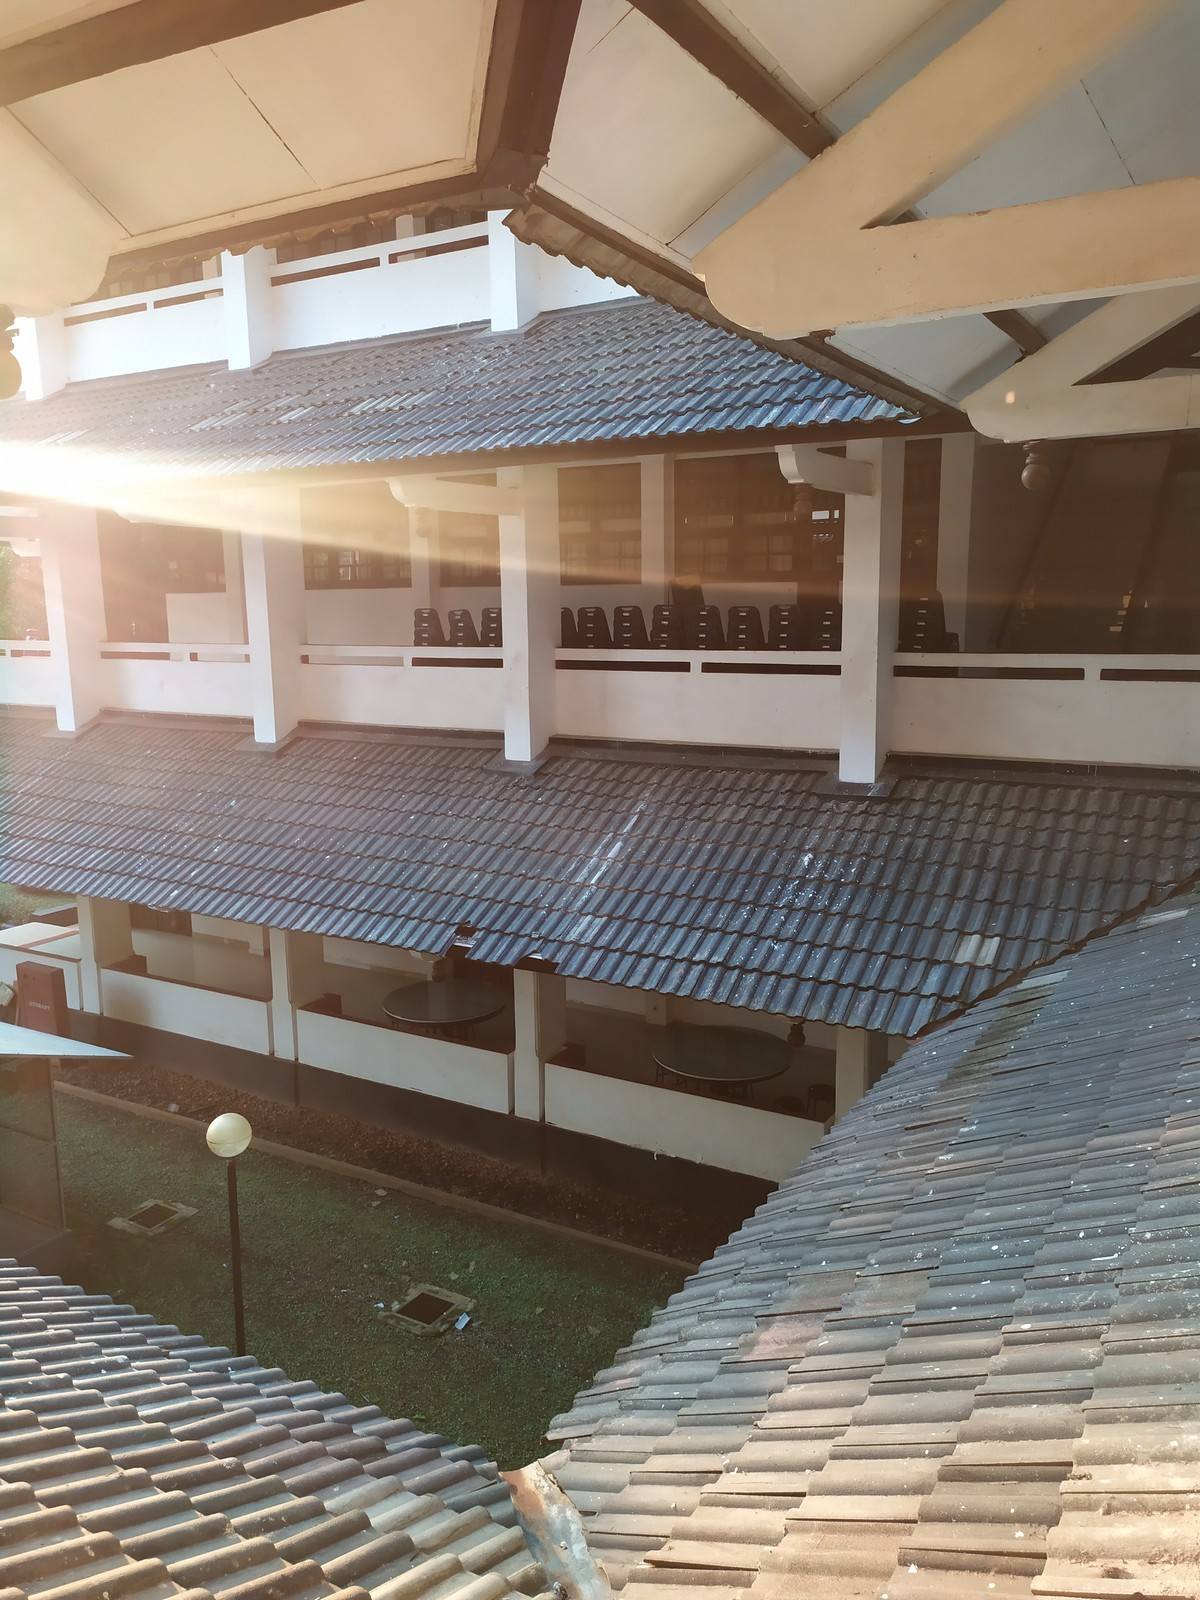concrete beam: (867, 193, 1200, 339)
concrete column: (489, 460, 574, 770), (839, 432, 903, 787), (234, 483, 316, 748), (34, 489, 118, 738), (480, 202, 551, 338), (222, 234, 284, 374), (15, 307, 77, 409)
